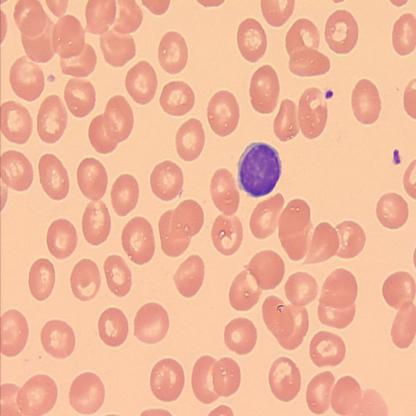Lymphocyte: (237, 140, 283, 198)
